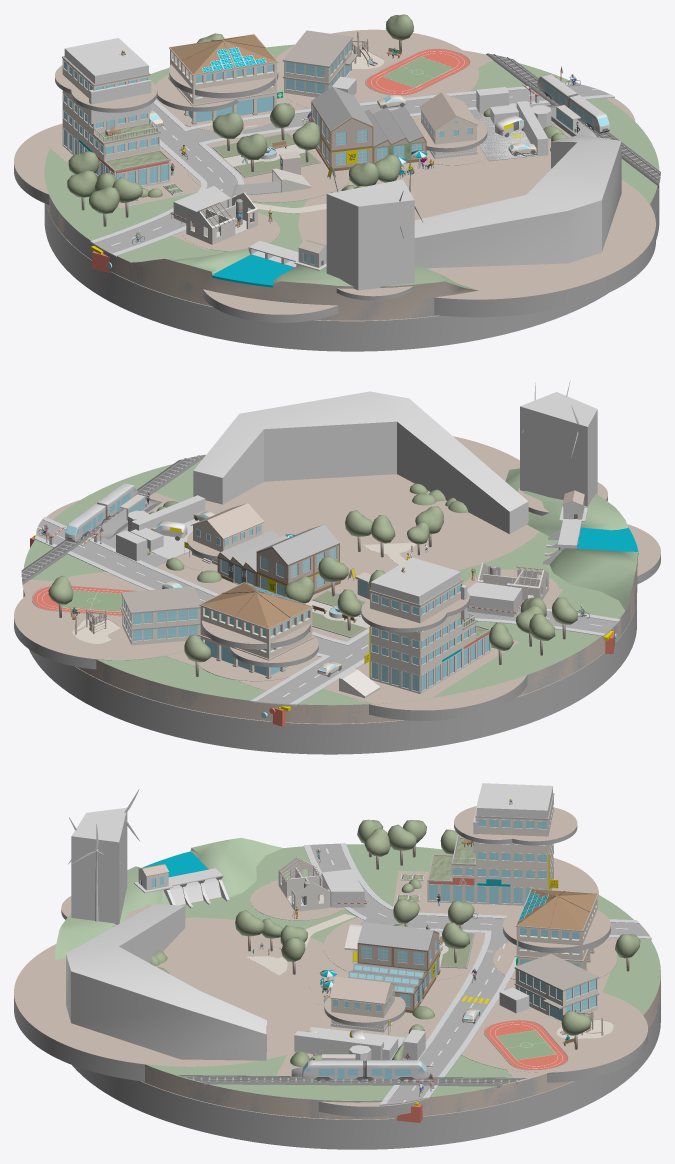
The model's file is BKW_InteractiveMap_31.gltf.
3 views of the same model, one above another, from view 1: azimuth 30°, elevation 25°; view 2: azimuth 150°, elevation 25°; view 3: azimuth 270°, elevation 25° (orthographic).
Visible parts, largest first — view 1: L1_ELECTRICITYGRID_TARGET, L1_ROADDITCH_EXPO-BKW_Grey_50, L1_ELECTRICITYGRID_EXPO-Beige_3, L0_WORLD-Green_4, L0_WORLD-Beige_3, L1_WINDPARK_TARGET, L1_TREES-Green_5, L1_STREETS-BKW_Grey_50, L1_SCHOOL_EXPO-Beige_3, L1_ELECTRICITYGRID_EXPO-BKW_Grey_50, L1_TREES_EXPO-Green_4, L1_STREETS-BKW_Grey_75 (+51 smaller); view 2: L1_ELECTRICITYGRID_TARGET, L0_WORLD-Green_4, L1_ROADDITCH_EXPO-BKW_Grey_50, L1_ELECTRICITYGRID_EXPO-Beige_3, L0_WORLD-Beige_3, L1_TREES-Green_5, L1_WINDPARK_TARGET, L1_STREETS-BKW_Grey_50, L1_SCHOOL_EXPO-Beige_3, L1_TREES_EXPO-Green_4, L1_TREES_EXPO-BKW_Grey_50, L1_STREETS-BKW_Grey_75 (+46 smaller); view 3: L1_ELECTRICITYGRID_EXPO-Beige_3, L1_ELECTRICITYGRID_TARGET, L0_WORLD-Green_4, L1_ROADDITCH_EXPO-BKW_Grey_50, L0_WORLD-Beige_3, L1_TREES-Green_5, L1_STREETS-BKW_Grey_50, L1_SCHOOL_EXPO-Beige_3, L1_WINDPARK_TARGET, L1_TREES_EXPO-Green_4, L1_STREETS-BKW_Grey_75, L2_URBANLIVING_PHOTOVOLTAIC_TARGET (+45 smaller).
Boxes of the visible parts, x1=… form: L1_ELECTRICITYGRID_TARGET: x1=414, y1=134, x2=621, y2=268; L1_ROADDITCH_EXPO-BKW_Grey_50: x1=44, y1=196, x2=659, y2=351; L1_ELECTRICITYGRID_EXPO-Beige_3: x1=298, y1=157, x2=655, y2=299; L0_WORLD-Green_4: x1=44, y1=44, x2=659, y2=290; L0_WORLD-Beige_3: x1=46, y1=50, x2=657, y2=320; L1_WINDPARK_TARGET: x1=326, y1=179, x2=414, y2=290; L1_TREES-Green_5: x1=67, y1=14, x2=567, y2=213; L1_STREETS-BKW_Grey_50: x1=94, y1=77, x2=600, y2=253; L1_SCHOOL_EXPO-Beige_3: x1=276, y1=29, x2=478, y2=108; L1_ELECTRICITYGRID_EXPO-BKW_Grey_50: x1=434, y1=227, x2=655, y2=317; L1_TREES_EXPO-Green_4: x1=45, y1=45, x2=656, y2=261; L1_STREETS-BKW_Grey_75: x1=90, y1=75, x2=605, y2=256; L1_ELECTRICITYGRID_TARGET: x1=193, y1=391, x2=528, y2=534; L0_WORLD-Green_4: x1=23, y1=459, x2=638, y2=705; L1_ROADDITCH_EXPO-BKW_Grey_50: x1=29, y1=600, x2=636, y2=754; L1_ELECTRICITYGRID_EXPO-Beige_3: x1=205, y1=436, x2=539, y2=572; L0_WORLD-Beige_3: x1=22, y1=492, x2=638, y2=723; L1_TREES-Green_5: x1=48, y1=501, x2=577, y2=662; L1_WINDPARK_TARGET: x1=520, y1=392, x2=597, y2=506; L1_STREETS-BKW_Grey_50: x1=36, y1=522, x2=617, y2=704; L1_SCHOOL_EXPO-Beige_3: x1=14, y1=572, x2=185, y2=660; L1_TREES_EXPO-Green_4: x1=28, y1=460, x2=623, y2=704; L1_TREES_EXPO-BKW_Grey_50: x1=23, y1=581, x2=636, y2=723; L1_STREETS-BKW_Grey_75: x1=34, y1=519, x2=619, y2=705; L1_ELECTRICITYGRID_EXPO-Beige_3: x1=14, y1=917, x2=344, y2=1066; L1_ELECTRICITYGRID_TARGET: x1=66, y1=904, x2=266, y2=1060; L0_WORLD-Green_4: x1=55, y1=837, x2=660, y2=1100; L1_ROADDITCH_EXPO-BKW_Grey_50: x1=72, y1=994, x2=660, y2=1149; L0_WORLD-Beige_3: x1=142, y1=871, x2=660, y2=1119; L1_TREES-Green_5: x1=235, y1=819, x2=640, y2=1066; L1_STREETS-BKW_Grey_50: x1=310, y1=843, x2=649, y2=1100; L1_SCHOOL_EXPO-Beige_3: x1=461, y1=987, x2=647, y2=1072; L1_WINDPARK_TARGET: x1=71, y1=807, x2=127, y2=924; L1_TREES_EXPO-Green_4: x1=145, y1=845, x2=644, y2=1100; L1_STREETS-BKW_Grey_75: x1=303, y1=843, x2=651, y2=1100; L2_URBANLIVING_PHOTOVOLTAIC_TARGET: x1=477, y1=783, x2=552, y2=818.
Bounding box in the file's own units: 2.05 × 0.6153 × 2.13.
